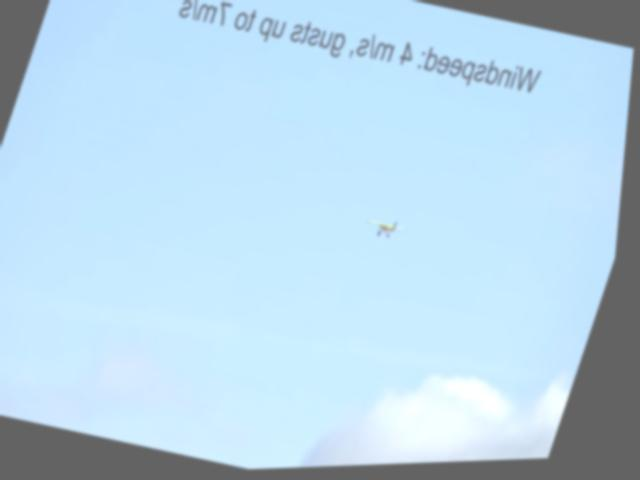plane: (365, 218, 413, 247)
